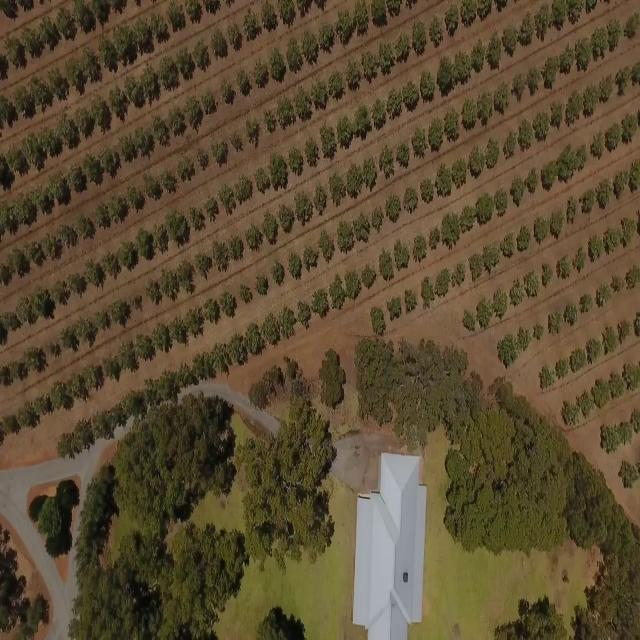trees: (92, 408, 114, 444), (29, 287, 53, 319), (210, 340, 228, 382), (82, 44, 102, 81), (159, 54, 179, 90), (228, 335, 246, 375), (176, 259, 195, 295), (166, 210, 187, 242), (599, 423, 619, 456), (56, 7, 77, 38), (558, 144, 576, 180), (334, 10, 353, 44), (14, 294, 33, 328), (434, 161, 452, 196), (410, 19, 428, 54), (262, 310, 279, 347), (618, 458, 637, 491), (498, 334, 517, 367), (74, 0, 94, 31), (28, 77, 50, 105), (133, 16, 151, 50), (141, 65, 159, 99), (438, 56, 454, 94), (99, 146, 119, 176), (565, 89, 582, 124), (475, 297, 493, 330), (192, 38, 210, 71), (344, 163, 362, 196), (270, 151, 286, 188), (329, 274, 345, 311), (39, 17, 59, 46), (40, 125, 60, 154), (476, 91, 494, 123), (352, 0, 368, 36), (301, 31, 319, 63), (52, 173, 70, 205), (0, 198, 16, 234), (286, 38, 303, 71), (99, 35, 115, 70), (5, 36, 25, 64), (48, 70, 68, 98), (84, 261, 104, 289), (109, 396, 125, 431), (24, 135, 42, 166), (276, 96, 294, 127), (54, 431, 72, 462), (583, 82, 599, 116), (378, 42, 395, 74), (318, 124, 335, 156), (475, 194, 493, 224), (243, 10, 261, 40), (14, 86, 34, 113), (109, 86, 127, 116), (168, 317, 188, 344), (294, 192, 313, 220), (212, 134, 228, 167), (74, 317, 96, 341), (442, 213, 459, 244), (345, 268, 362, 299), (20, 29, 41, 54), (246, 321, 261, 356), (523, 269, 541, 298), (166, 1, 184, 30), (310, 81, 328, 110), (492, 286, 508, 318), (362, 49, 378, 81), (328, 172, 344, 204), (337, 220, 353, 252), (394, 237, 409, 271), (468, 145, 485, 175), (428, 116, 443, 150), (386, 88, 403, 118), (269, 48, 284, 82), (218, 182, 235, 212), (135, 229, 152, 259), (160, 269, 177, 299), (157, 370, 174, 400), (596, 178, 614, 206), (541, 161, 559, 189), (532, 112, 550, 140), (114, 28, 132, 56), (59, 113, 77, 141), (66, 163, 84, 191), (192, 354, 210, 382), (276, 0, 296, 25), (434, 268, 450, 299), (184, 95, 200, 126), (353, 105, 369, 136), (362, 156, 377, 189), (591, 378, 608, 407), (369, 306, 386, 335), (574, 38, 591, 67), (84, 153, 101, 182), (125, 388, 142, 417), (176, 361, 193, 390), (134, 127, 152, 154), (622, 112, 638, 142), (462, 97, 478, 127), (454, 51, 470, 81), (419, 70, 435, 100), (403, 80, 419, 110), (444, 4, 459, 36), (211, 28, 227, 58), (126, 74, 142, 104), (152, 115, 168, 145), (236, 174, 252, 204), (319, 232, 335, 262), (279, 306, 295, 336), (623, 362, 640, 390), (451, 157, 468, 185), (66, 58, 83, 86), (76, 108, 93, 136), (228, 233, 245, 261), (51, 380, 68, 408), (83, 363, 102, 388), (6, 144, 24, 170), (135, 334, 153, 360), (509, 174, 524, 205), (517, 119, 532, 150), (379, 146, 394, 177), (69, 369, 84, 400), (549, 101, 565, 130), (518, 15, 534, 44), (260, 2, 276, 31), (168, 106, 184, 135), (328, 71, 344, 100), (287, 146, 303, 175), (150, 13, 167, 40), (588, 233, 603, 263), (616, 64, 631, 94), (460, 0, 478, 25), (429, 16, 444, 46), (253, 57, 268, 87), (608, 371, 624, 399), (468, 252, 484, 280), (543, 56, 557, 88), (549, 0, 565, 28), (502, 27, 518, 55), (318, 22, 334, 50), (336, 116, 352, 144), (353, 214, 369, 242), (312, 288, 328, 316), (118, 240, 134, 268), (186, 307, 202, 335), (93, 96, 108, 125), (493, 186, 507, 217), (534, 6, 548, 37), (396, 32, 410, 63), (15, 197, 33, 221), (385, 195, 401, 222), (50, 279, 66, 306), (445, 105, 458, 138), (219, 290, 236, 315), (379, 250, 393, 280), (503, 130, 518, 158), (592, 28, 607, 56), (559, 45, 574, 73), (512, 70, 526, 100), (486, 36, 500, 66), (254, 164, 269, 192), (296, 299, 310, 329), (77, 212, 92, 240), (561, 399, 577, 425), (539, 363, 555, 389), (548, 212, 564, 238), (421, 276, 434, 308), (262, 214, 278, 240), (245, 223, 261, 249), (188, 204, 204, 230), (119, 344, 135, 370), (7, 249, 25, 272), (111, 300, 129, 323), (177, 156, 194, 180), (484, 244, 498, 273), (526, 66, 540, 95), (296, 90, 310, 119), (144, 379, 158, 408), (302, 245, 317, 272), (146, 278, 161, 305), (607, 17, 620, 48), (613, 170, 629, 195), (42, 233, 58, 258), (195, 252, 211, 277), (152, 323, 168, 348), (20, 405, 36, 430), (24, 241, 42, 263), (67, 274, 85, 296), (73, 427, 91, 449), (0, 312, 18, 334), (510, 280, 524, 308), (412, 128, 426, 156), (346, 61, 360, 89), (288, 251, 302, 279), (152, 222, 166, 250), (625, 262, 640, 288), (461, 306, 476, 332), (500, 234, 515, 260), (495, 85, 508, 115), (472, 42, 485, 72), (201, 90, 216, 116), (177, 50, 192, 76), (24, 346, 39, 372), (570, 348, 586, 372), (628, 159, 640, 191), (459, 205, 475, 229), (119, 136, 135, 160), (37, 189, 53, 213), (109, 194, 125, 218), (212, 244, 228, 268), (1, 412, 17, 436), (533, 215, 547, 242), (452, 261, 466, 288), (485, 140, 498, 169), (602, 328, 617, 353), (236, 70, 251, 95), (102, 356, 119, 378), (566, 0, 582, 23), (202, 296, 218, 319), (577, 390, 591, 416), (548, 309, 562, 335), (604, 227, 618, 253), (606, 123, 620, 149), (413, 234, 427, 260), (362, 262, 376, 288), (228, 22, 242, 48), (220, 77, 234, 103), (279, 204, 293, 230), (95, 202, 109, 228), (92, 0, 110, 20), (314, 183, 326, 213), (61, 224, 76, 248), (556, 256, 572, 278), (144, 176, 160, 198), (102, 252, 118, 274), (586, 337, 600, 362), (516, 327, 530, 352), (387, 296, 401, 321), (592, 133, 606, 158), (599, 76, 613, 101), (624, 14, 638, 39), (372, 1, 386, 26), (563, 303, 578, 326), (185, 1, 202, 21), (34, 394, 51, 414), (10, 357, 23, 383), (596, 282, 610, 306), (566, 196, 578, 224), (420, 178, 434, 202), (373, 98, 385, 126), (622, 218, 635, 243), (517, 226, 530, 251), (404, 185, 416, 212), (305, 137, 317, 164), (580, 189, 594, 212), (46, 338, 60, 361), (61, 326, 76, 347), (618, 317, 630, 343), (574, 246, 586, 272), (404, 288, 416, 314), (526, 168, 538, 194), (255, 272, 268, 296), (618, 422, 632, 444), (161, 169, 175, 191), (130, 185, 144, 207), (576, 145, 588, 170), (246, 120, 258, 145), (272, 260, 284, 285), (556, 356, 569, 379), (205, 197, 218, 220), (541, 262, 553, 286), (397, 142, 409, 166), (579, 293, 593, 313), (0, 97, 12, 120), (371, 207, 383, 230), (630, 407, 640, 434), (229, 132, 241, 154), (264, 109, 275, 132), (611, 274, 623, 294), (430, 226, 440, 249), (240, 285, 251, 305), (533, 324, 545, 342), (96, 311, 109, 327), (632, 59, 640, 84), (198, 152, 209, 170), (633, 311, 640, 336)
